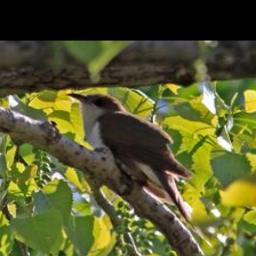Cuckoo: (66, 90, 198, 239)
